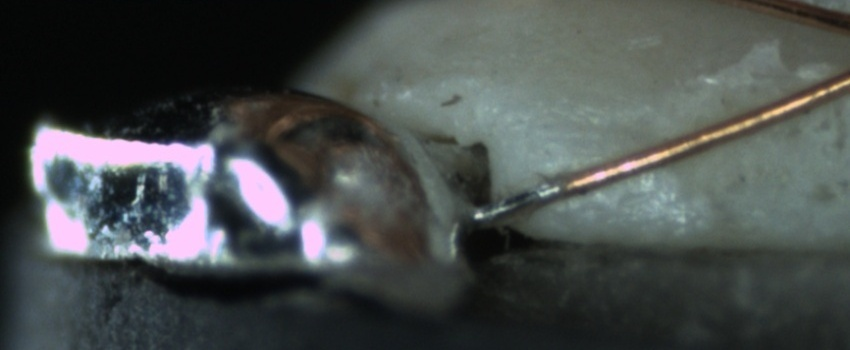DL: (532, 97, 665, 160)
TS: (468, 181, 558, 224)
